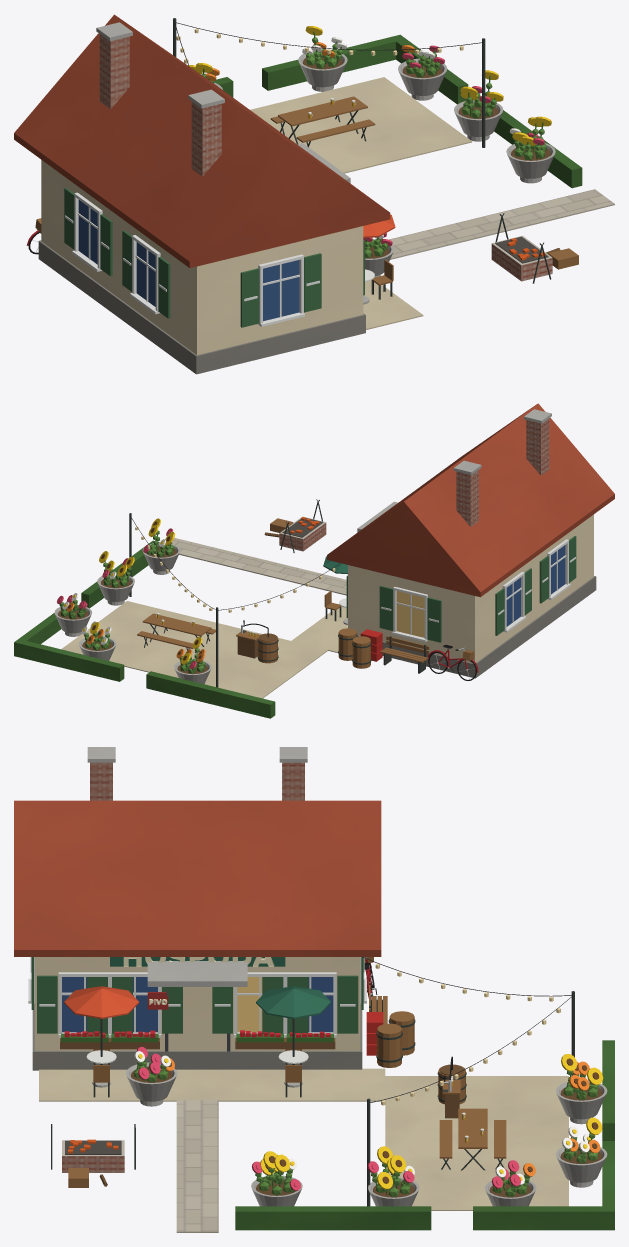
File: hospoda.glb
3 views of the same model, one above another, from view 1: azimuth 30°, elevation 25°; view 2: azimuth 150°, elevation 25°; view 3: azimuth 270°, elevation 25° (orthographic). The views are drawn at different scales.
Visible parts, largest first — view 1: dum; view 2: dum, noc; view 3: dum, noc.
Boxes of the visible parts, x1,y1,x2,y2 form: dum: (14,14,614,374); dum: (14,403,614,718); noc: (135,526,424,637); dum: (14,747,614,1232); noc: (123,957,560,1105).
Bounding box in the file's own units: 29.01 × 13.4 × 28.73.
Materials: 1 (1 with a texture image).
